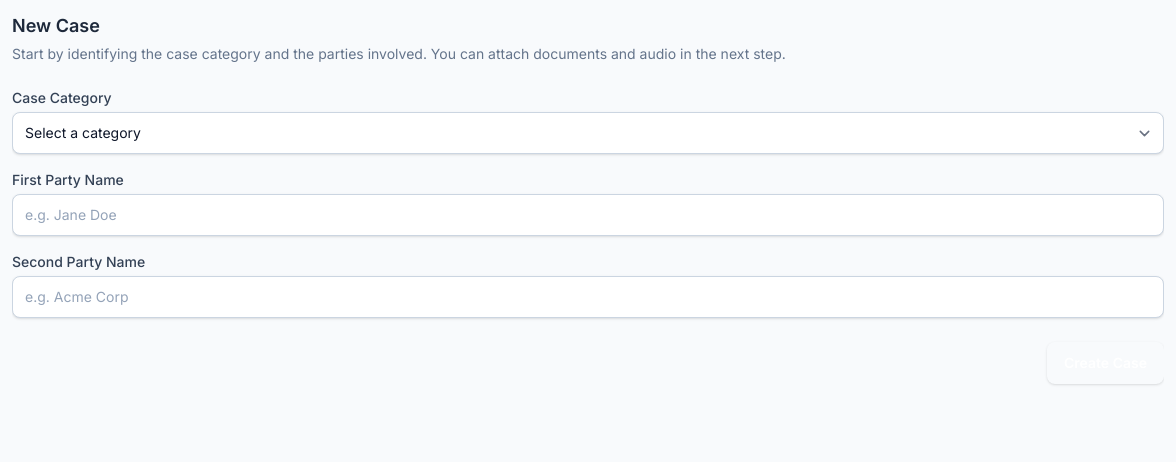
Scenario: CaseCreationForm › shows validation errors when submitted empty
Click the button "Create Case" at (1106, 363), box [1047,342,1164,384]
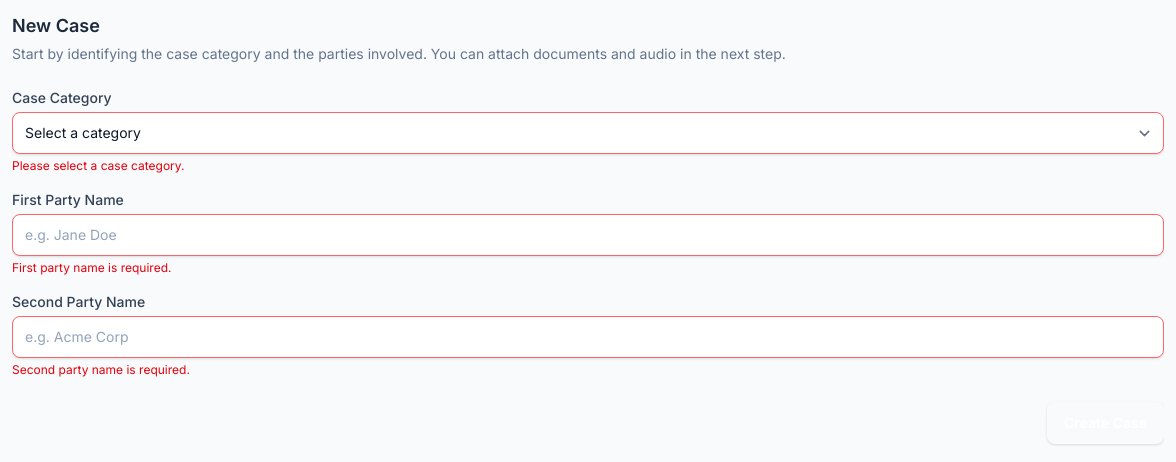
Now the text "Please select a case category." is shown, box [12,158,184,173]
Now the text "First party name is required." is shown, box [12,260,172,275]
Now the text "Second party name is required." is shown, box [12,362,190,377]
